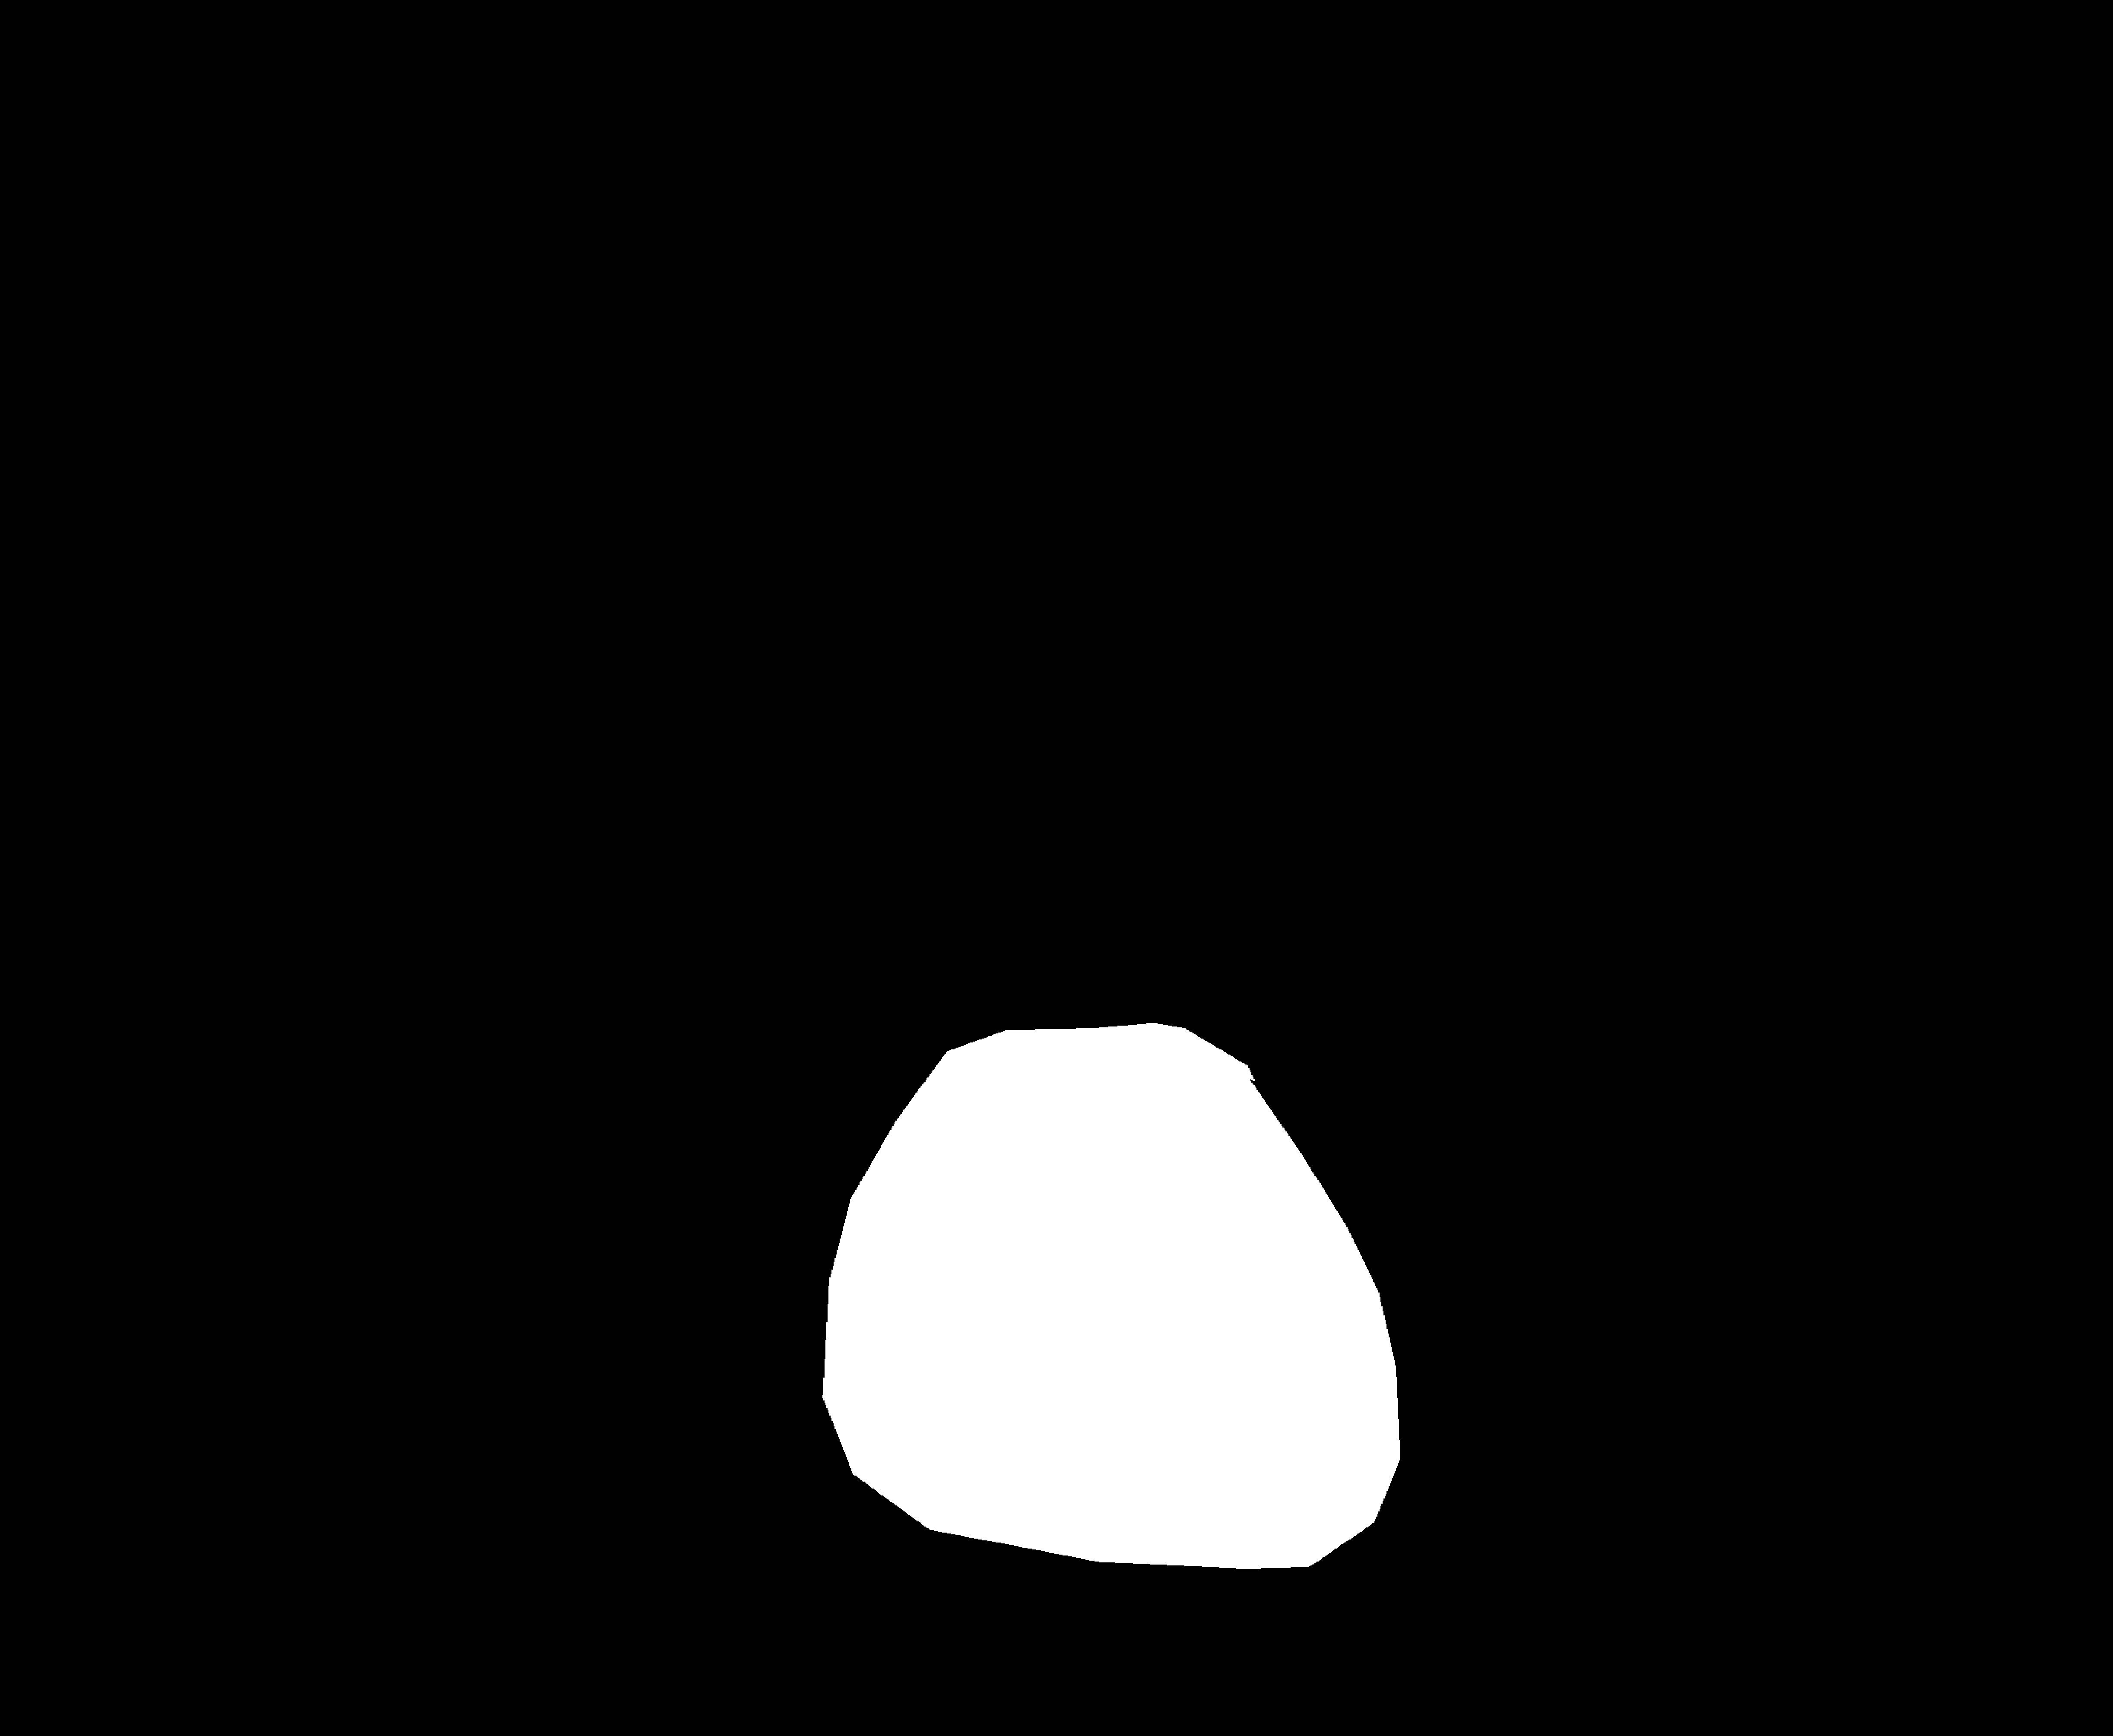heart: (853, 1074, 1392, 1560)
left_lung: (168, 274, 971, 1736)
right_lung: (1114, 247, 1820, 1734)
